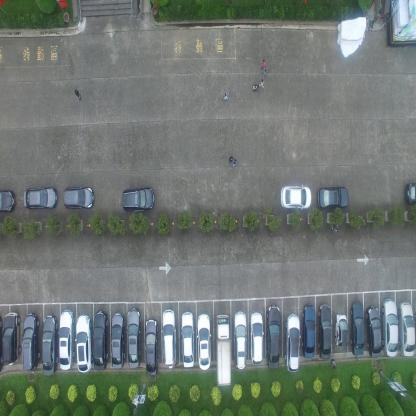car: (75, 312, 93, 374), (22, 310, 40, 372), (216, 313, 231, 384), (41, 314, 58, 374), (58, 307, 74, 370), (93, 308, 109, 370), (2, 311, 20, 366), (266, 305, 281, 370), (162, 308, 178, 368), (284, 312, 300, 372), (382, 298, 398, 357), (196, 312, 212, 370), (22, 185, 58, 210), (398, 301, 414, 357), (144, 317, 159, 376), (180, 310, 195, 368), (127, 306, 141, 368), (280, 183, 312, 210), (366, 304, 382, 358), (233, 311, 247, 372), (301, 302, 316, 358), (121, 186, 155, 210), (316, 185, 348, 210), (111, 309, 124, 369), (350, 300, 364, 354), (250, 312, 264, 365), (318, 303, 331, 359), (64, 185, 94, 209), (334, 311, 348, 348), (0, 189, 16, 213), (405, 181, 415, 206)
